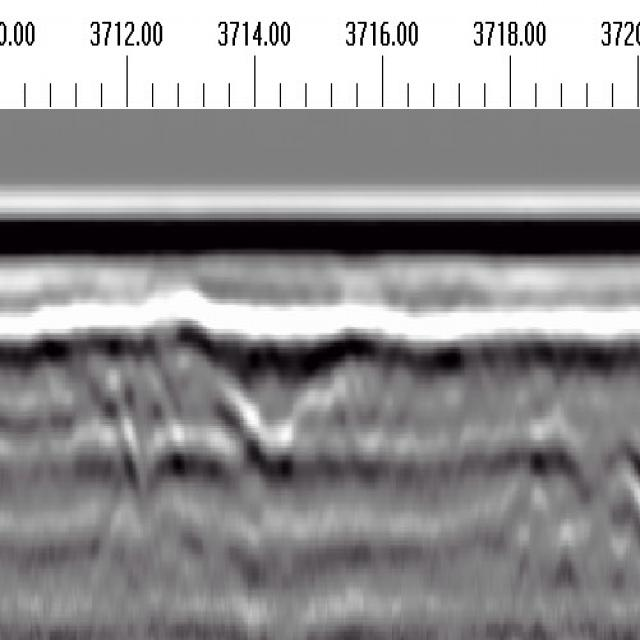loose: (24, 294, 365, 530)
